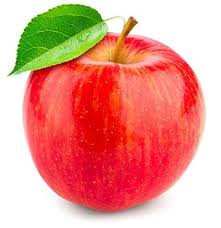apple: (27, 36, 201, 203)
